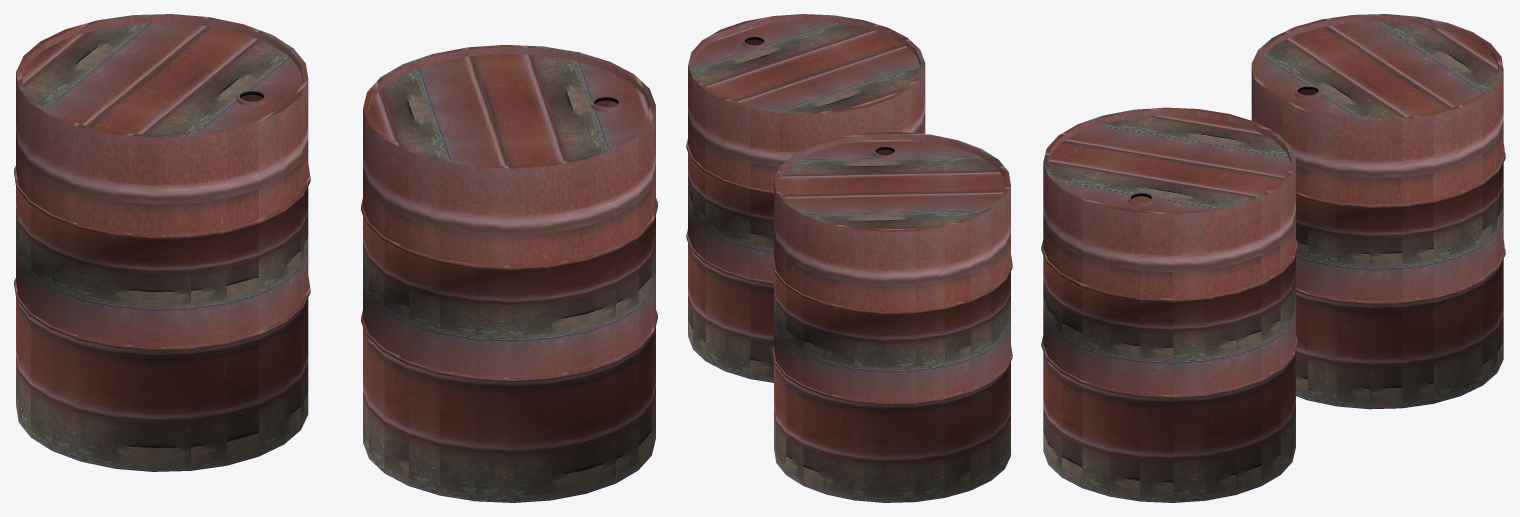
Rendered from Toender.glb.
3 views of the same model, side by side, from view 1: azimuth 30°, elevation 25°; view 2: azimuth 150°, elevation 25°; view 3: azimuth 270°, elevation 25° (orthographic). The views are drawn at different scales.
Parts seen in each view (by area): view 1: Barrel.001, Barrel; view 2: Barrel.001, Barrel; view 3: Barrel, Barrel.001.
Boxes of the visible parts, x1,y1,x2,y2 form: Barrel.001: (14,14,310,471); Barrel: (361,45,657,502); Barrel.001: (772,132,1012,502); Barrel: (686,14,925,382); Barrel: (1041,107,1297,502); Barrel.001: (1251,14,1505,409).
Size of the model in its own units: 0.3238 by 0.2153 by 0.3119.
2 materials, 1 textured.
